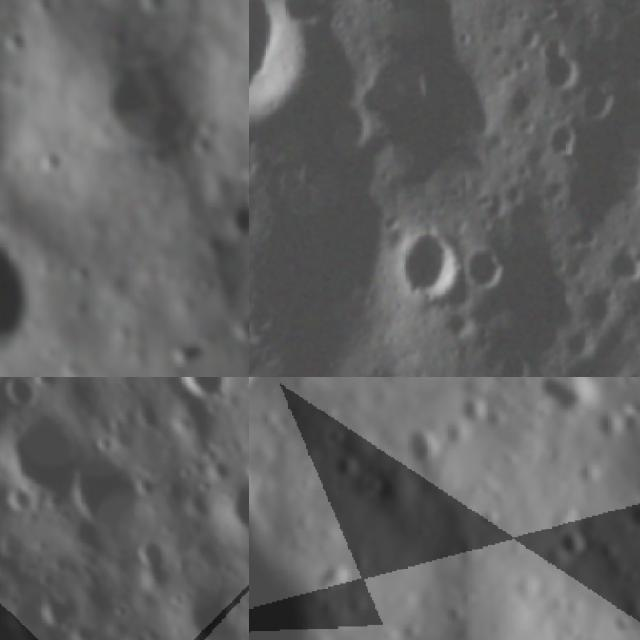crater: (74, 27, 210, 173), (249, 0, 318, 124), (60, 462, 146, 547), (394, 220, 468, 304), (0, 228, 36, 372), (394, 407, 459, 475), (598, 0, 640, 89), (532, 377, 606, 425), (530, 31, 590, 88), (207, 476, 249, 555), (165, 377, 249, 416), (580, 396, 635, 452), (323, 436, 375, 494), (132, 531, 185, 584), (462, 241, 516, 293), (536, 114, 583, 160), (551, 520, 596, 566), (249, 444, 275, 523), (0, 476, 44, 522), (573, 78, 615, 120), (604, 239, 640, 286), (218, 198, 249, 252), (0, 80, 19, 168), (0, 377, 42, 412), (220, 305, 249, 354), (614, 489, 640, 541), (0, 559, 22, 612)
